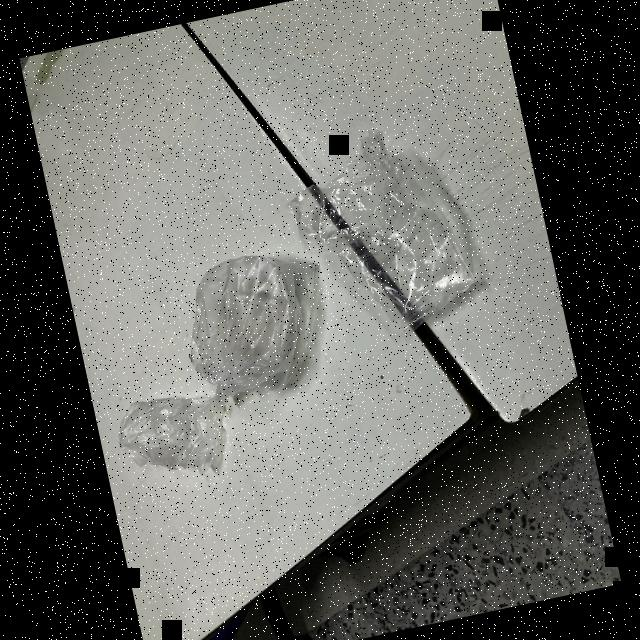plastic_bag: (276, 120, 497, 356), (165, 227, 332, 413)
scrap_plastic: (106, 380, 245, 496)
